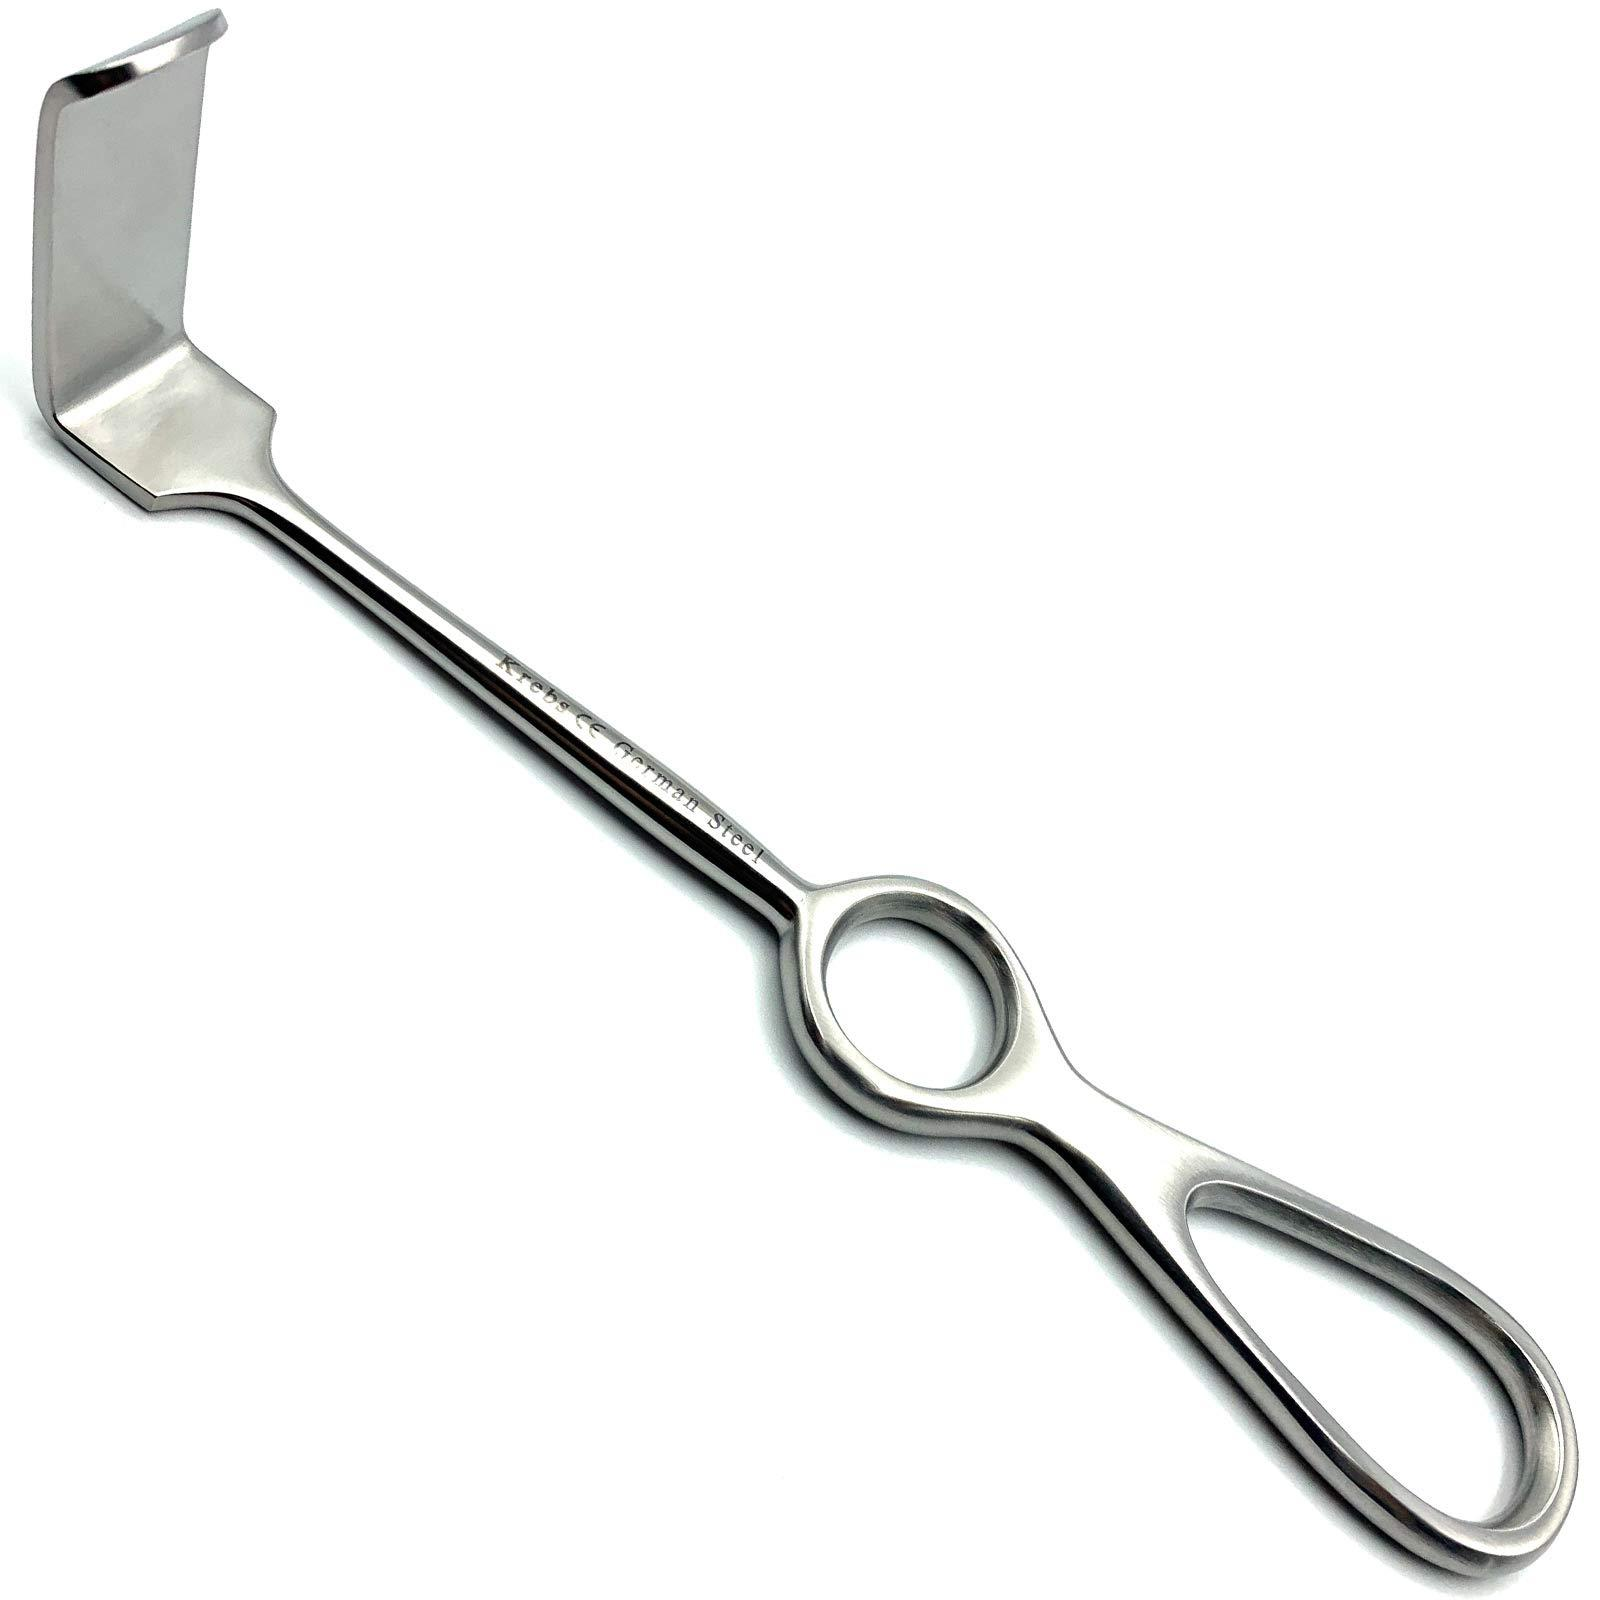Langenbach Retractor: (21, 4, 1582, 1587)
